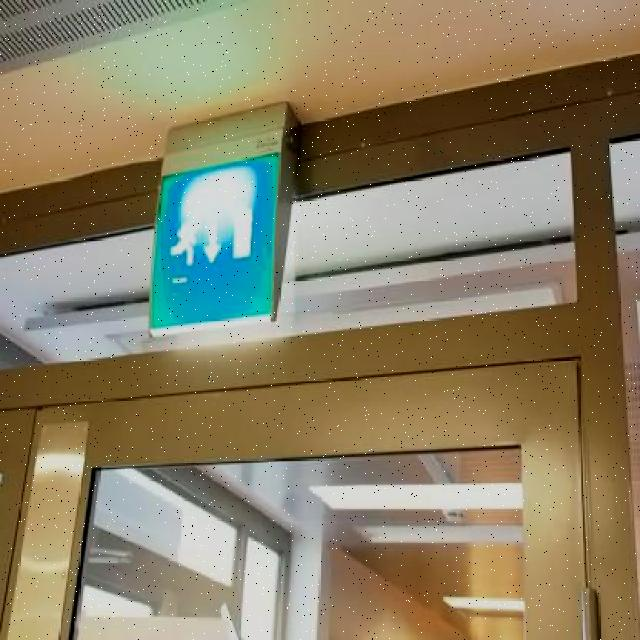emergency_exit: (147, 101, 299, 336)
